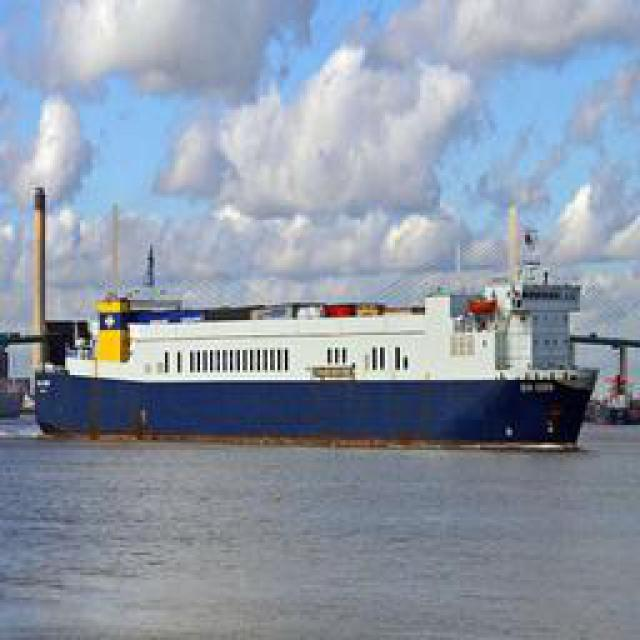Ship: (24, 278, 619, 453)
